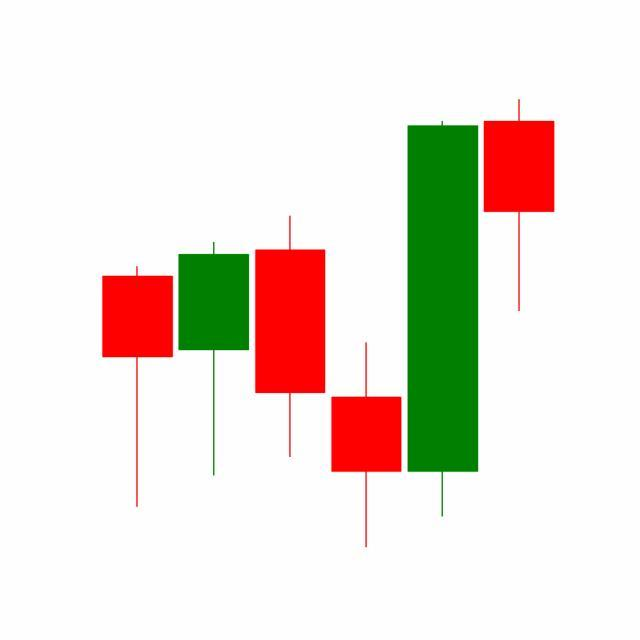Morning Star: (252, 116, 482, 548)
